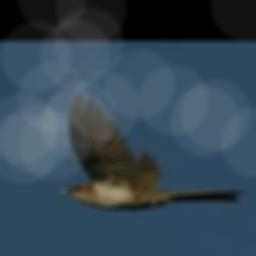Cuckoo: (59, 92, 248, 209)
